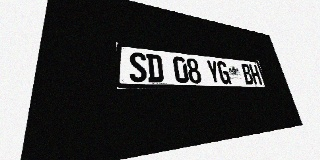0: (172, 56, 189, 83)
8: (186, 58, 202, 83)
B: (240, 63, 254, 85)
D: (146, 53, 164, 83)
G: (216, 61, 231, 84)
H: (249, 64, 262, 85)
S: (129, 52, 147, 82)
Y: (205, 60, 221, 84)
